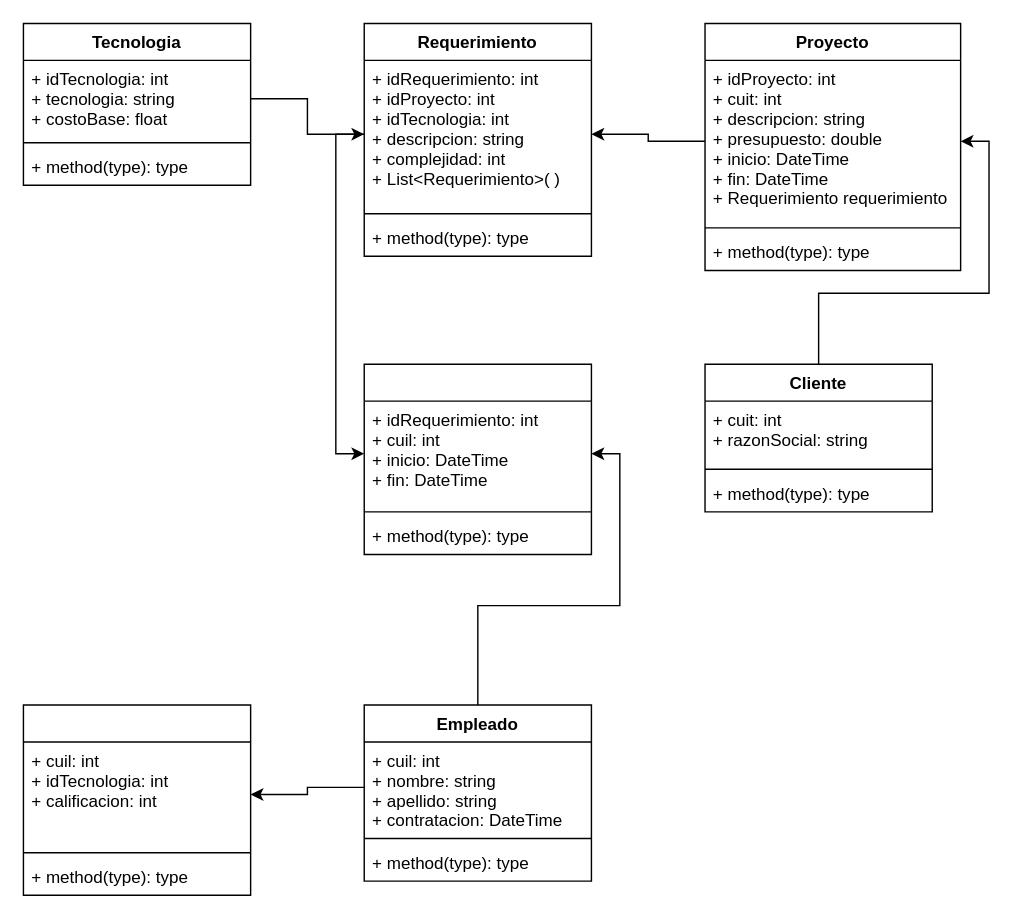
This 1012x919 diagram has some shape labels left out. Each missing label, with the box of its shape:
Experiencia: (22, 704, 251, 895)
Tarea: (363, 363, 591, 555)
